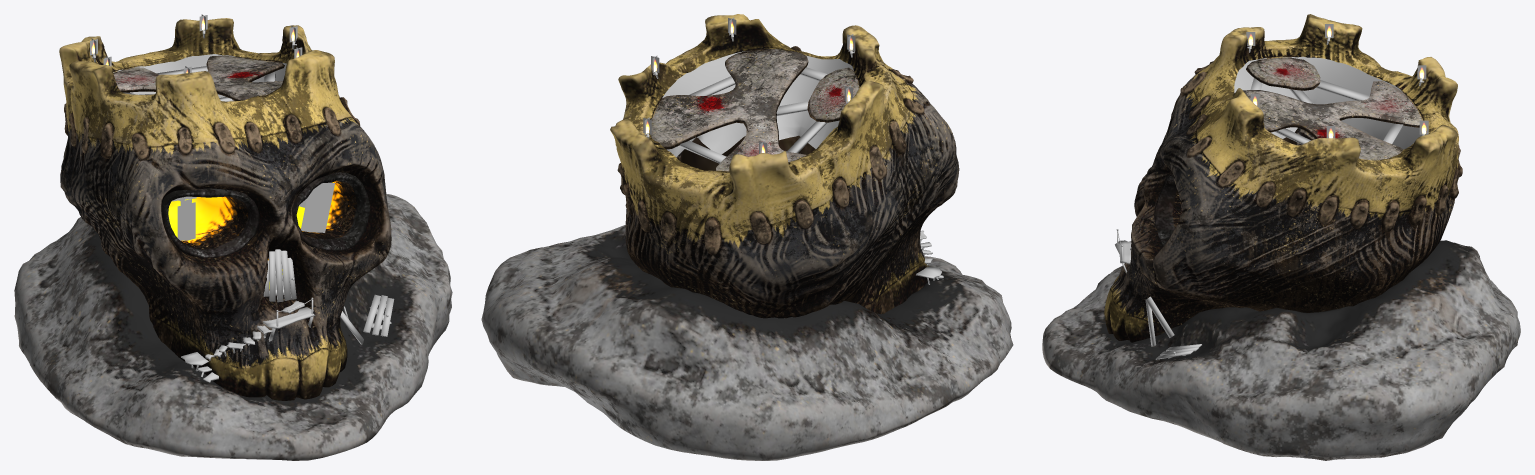
The picture shows the model from 3 angles, left to right: view 1: azimuth 30°, elevation 25°; view 2: azimuth 150°, elevation 25°; view 3: azimuth 270°, elevation 25°; orthographic projection. The views are drawn at different scales.
Parts seen in each view (by area): view 1: HauntedHouse_skull, HauntedHouse_attributes; view 2: HauntedHouse_skull, HauntedHouse_attributes; view 3: HauntedHouse_skull, HauntedHouse_attributes.
Boxes of the visible parts, <box> form: HauntedHouse_skull: <box>14,18,452,460</box>; HauntedHouse_attributes: <box>90,14,394,382</box>; HauntedHouse_skull: <box>481,14,1013,460</box>; HauntedHouse_attributes: <box>643,17,943,284</box>; HauntedHouse_skull: <box>1042,14,1520,460</box>; HauntedHouse_attributes: <box>1115,24,1428,359</box>.
Bounding box in the file's own units: 17.95 × 13.61 × 19.36.
